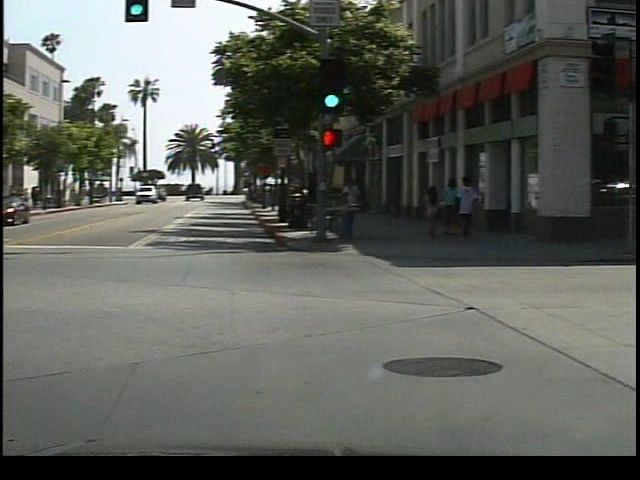person: (348, 175, 375, 231)
